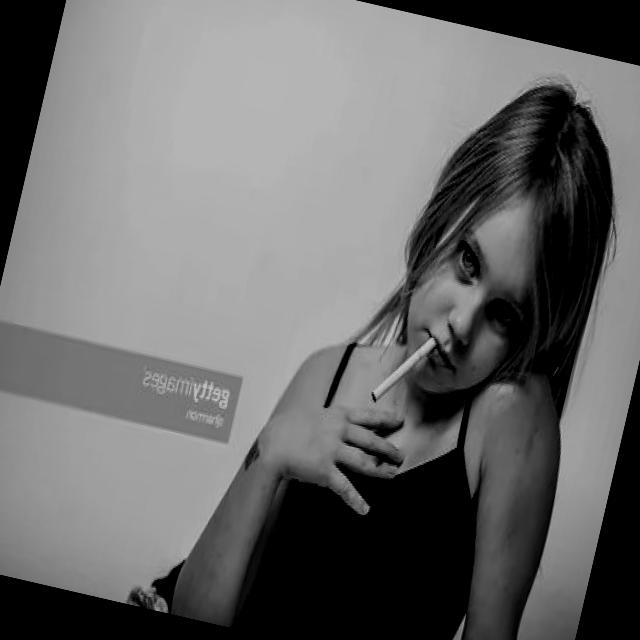cigarette: (365, 322, 442, 416)
